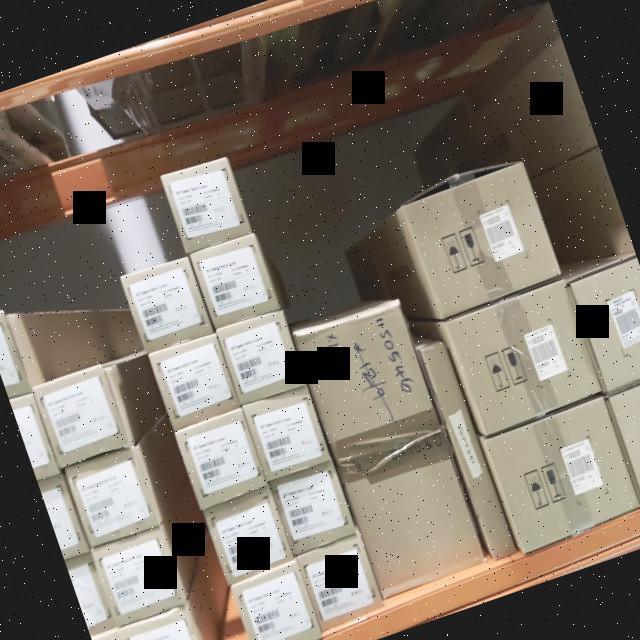box: (292, 300, 486, 595), (442, 277, 606, 438), (400, 162, 564, 321), (478, 392, 640, 549), (417, 336, 519, 559), (32, 361, 134, 469), (89, 520, 190, 629), (146, 328, 242, 431), (569, 257, 640, 395), (61, 446, 158, 546), (200, 483, 296, 583), (160, 150, 252, 254), (120, 254, 215, 354), (173, 409, 269, 507), (242, 384, 330, 485), (214, 306, 304, 404), (188, 228, 276, 322), (296, 530, 382, 625), (229, 561, 323, 640), (271, 462, 355, 548), (608, 371, 640, 502), (117, 606, 214, 640)
